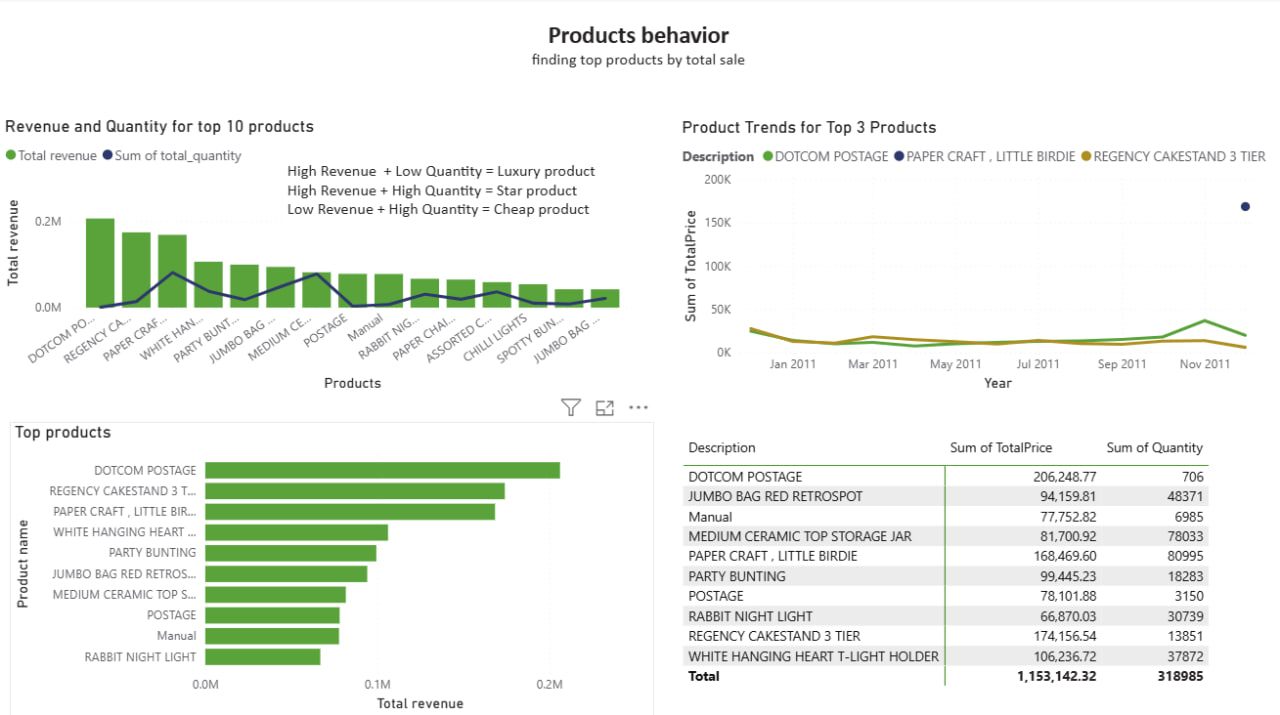

The dashboard page shown, as its layout file describes it:
{"tool":"powerbi","page":{"name":"Product","canvas":[1280,720],"ordinal":2},"visuals":[{"type":"textbox","box":[0,17.8,1277.5,64.5],"z":0},{"type":"barChart","title":"Top products","fields":{"Category":["online_retail vw_top_products.Description"],"Y":["Sum(online_retail vw_top_products.total_revenue)"]},"box":[9.6,425.4,644.9,295],"z":1000},{"type":"lineStackedColumnComboChart","title":"Revenue and Quantity for top 10 products","fields":{"Category":["online_retail vw_top_products.Description"],"Y2":["Sum(online_retail vw_top_products.total_quantity)"],"Y":["Sum(online_retail vw_top_products.total_revenue)"]},"box":[0,118.9,639.6,281.1],"z":2000},{"type":"textbox","box":[283,158.5,356.6,81.1],"z":3000},{"type":"lineChart","title":"Product Trends for Top 3 Products","fields":{"Y":["Sum(online_retail vw_retail_sales.TotalPrice)"],"Category":["online_retail vw_retail_sales.InvoiceDate.Variation.Date Hierarchy.Year","online_retail vw_retail_sales.InvoiceDate.Variation.Date Hierarchy.Month"],"Series":["online_retail vw_retail_sales.Description"]},"box":[677.9,119.4,599.7,279.9],"z":4000},{"type":"pivotTable","fields":{"Rows":["online_retail vw_retail_sales.Description"],"Values":["Sum(online_retail vw_retail_sales.TotalPrice)","Sum(online_retail vw_retail_sales.Quantity)"]},"box":[678.4,435.4,600.6,264.8],"z":5000}]}

Visuals, with their boxes in screenshot pixels (x1, y1, x2, y2), scaled from the page's 1280x720 canvas onto the 1280x715 screenshot:
textbox: l=0, t=18, r=1278, b=82
"Top products" barChart: l=10, t=422, r=654, b=714
"Revenue and Quantity for top 10 products" lineStackedColumnComboChart: l=0, t=118, r=640, b=397
textbox: l=283, t=157, r=640, b=238
"Product Trends for Top 3 Products" lineChart: l=678, t=119, r=1278, b=397
pivotTable - online_retail vw_retail_sales.Description x Sum(online_retail vw_retail_sales.TotalPrice): l=678, t=432, r=1279, b=695
